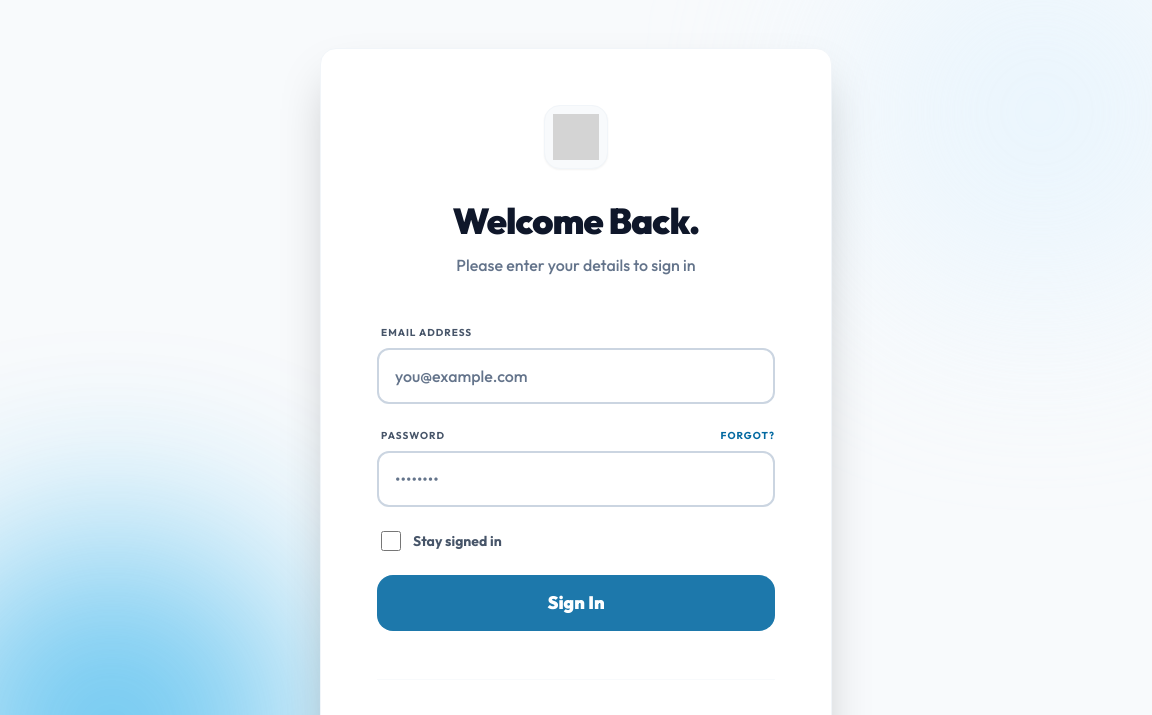
Test: Login page › stay signed-in checkbox toggles
Click the checkbox labelled "Stay signed in" at point(391, 541), box [381,531,401,551]
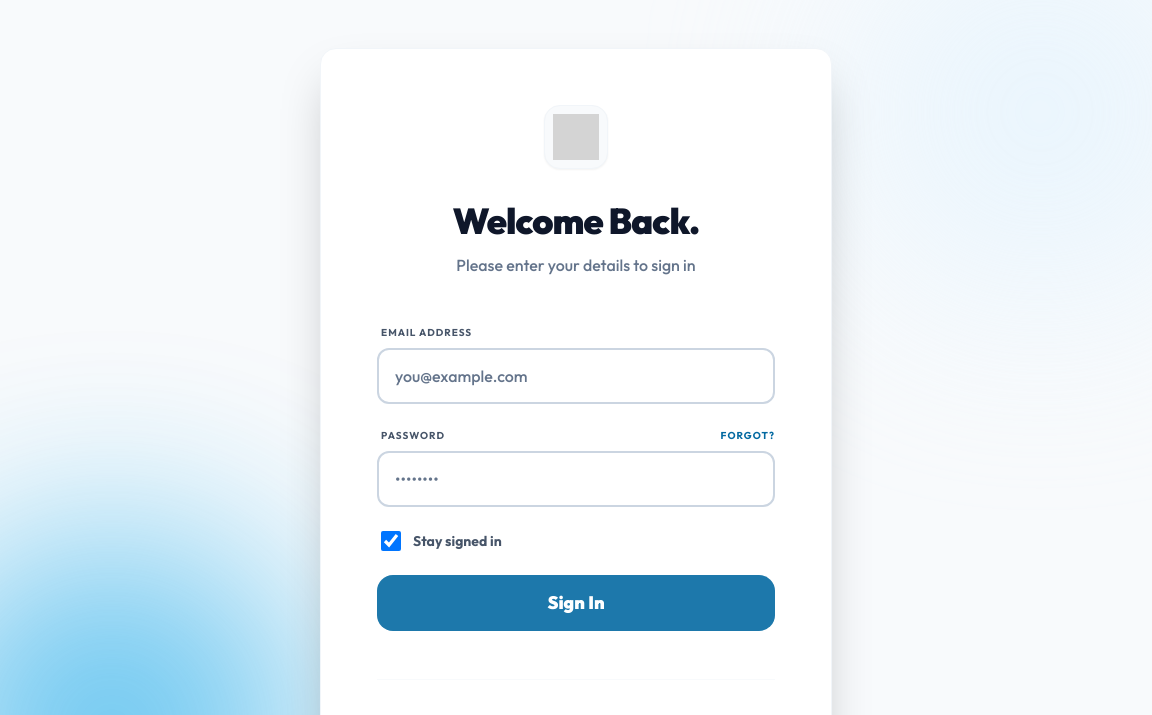
Expected: the checkbox labelled "Stay signed in" is checked, [381,531,401,551]
